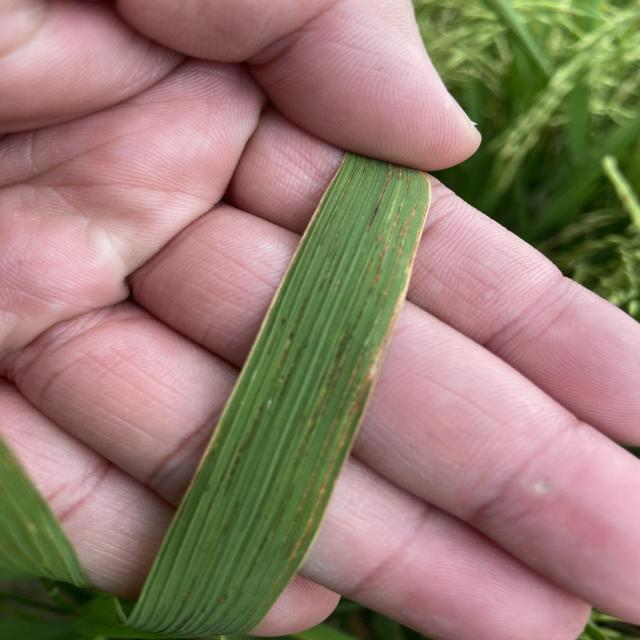Dom soc vi khuan: (321, 310, 362, 412), (223, 404, 260, 496), (369, 204, 402, 294), (366, 166, 392, 231), (176, 571, 198, 617), (275, 332, 296, 372), (222, 501, 239, 532), (200, 602, 211, 613)
